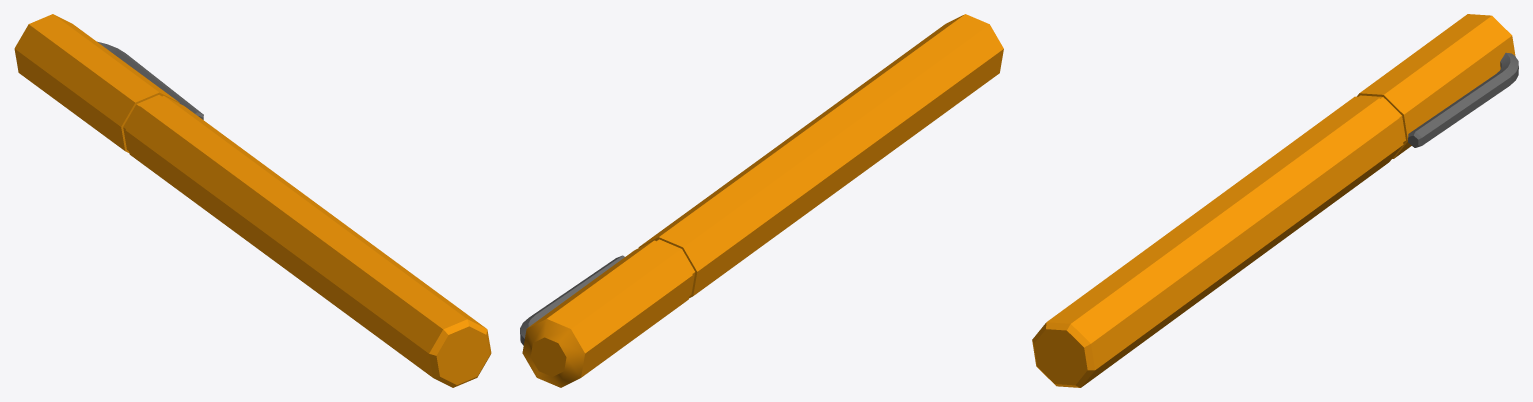
Rendered from Lapiz03.fbx.
3 renders of one model, left to right at view 1: azimuth 30°, elevation 25°; view 2: azimuth 150°, elevation 25°; view 3: azimuth 330°, elevation 25°, orthographic.
Visible parts, largest first — view 1: Lapiz03; view 2: Lapiz03; view 3: Lapiz03.
Boxes of the visible parts, left/top/right/bottom form: Lapiz03: left=14, top=14, right=491, bottom=387; Lapiz03: left=520, top=14, right=1003, bottom=387; Lapiz03: left=1032, top=14, right=1518, bottom=387.
Bounding box in the file's own units: 0.0122 × 0.00912 × 0.1059.
